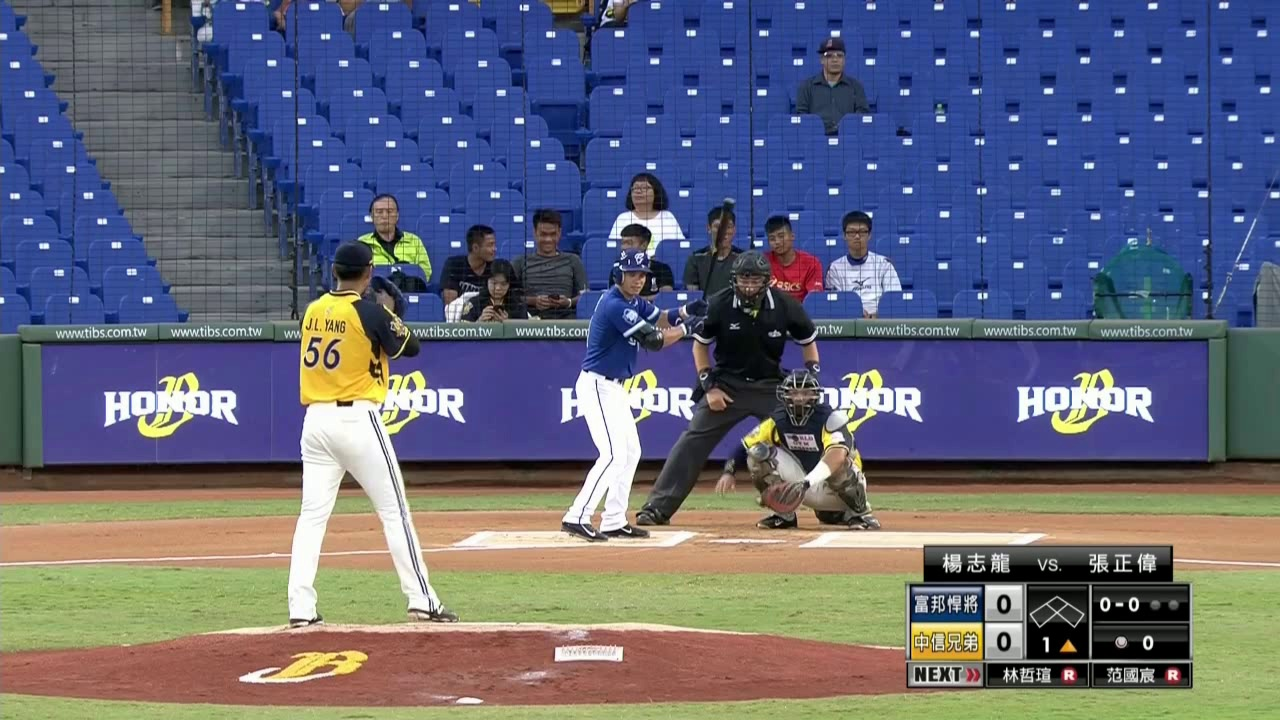ball: (374, 290, 395, 303)
base: (1027, 590, 1089, 632)
bat: (695, 190, 736, 315)
out: (1147, 593, 1184, 614)
score1: (982, 582, 1025, 620)
score2: (983, 622, 1025, 659)
session: (1030, 634, 1086, 656)
strikeball: (1094, 591, 1145, 615)
total: (1113, 630, 1159, 653)
